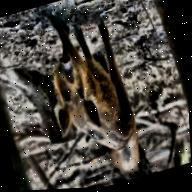boar: (27, 0, 149, 190)
